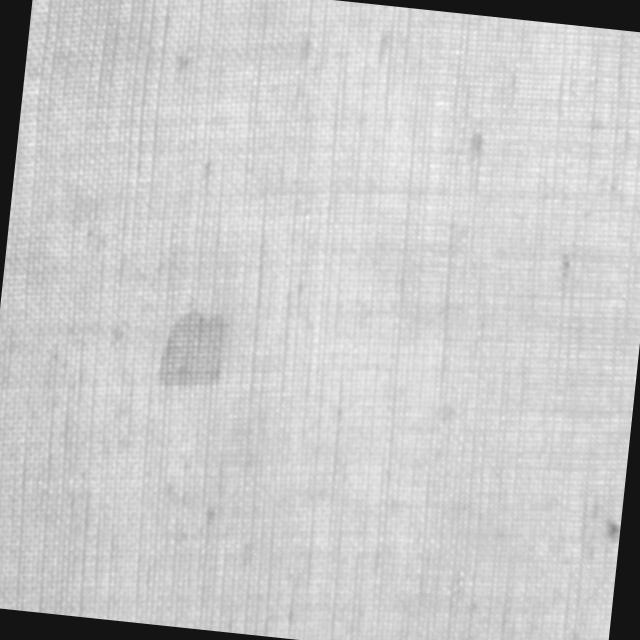oil spot: (158, 300, 232, 394)
